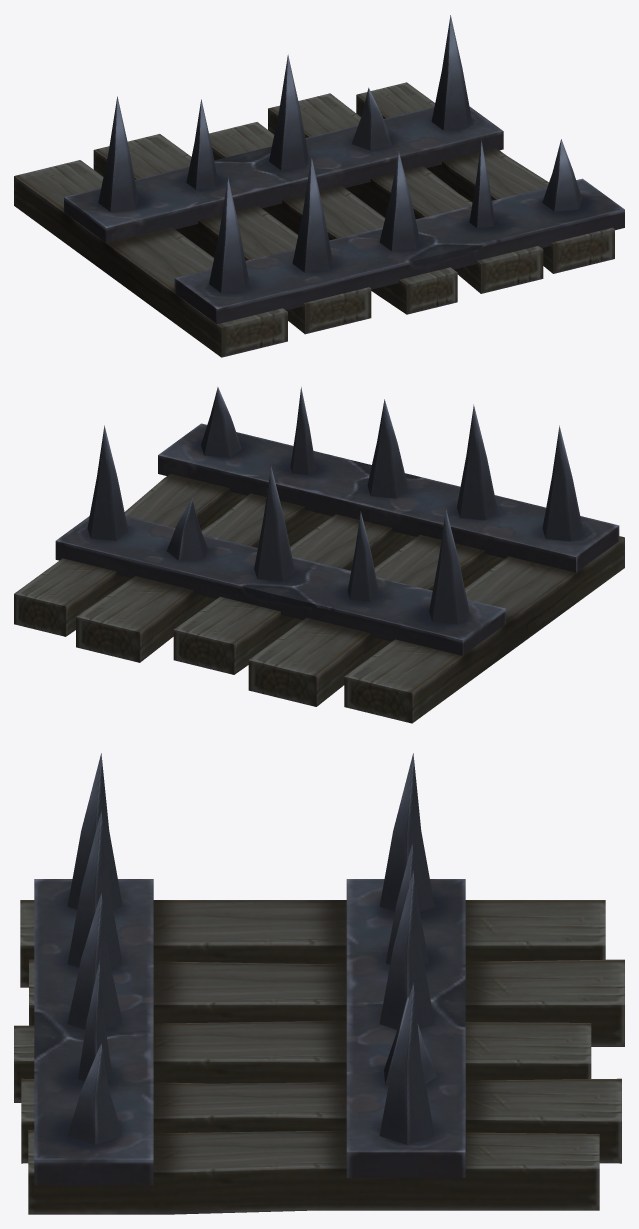
Rendered from Bedaying_mujiazi.FBX.
3 views of the same model, one above another, from view 1: azimuth 30°, elevation 25°; view 2: azimuth 150°, elevation 25°; view 3: azimuth 270°, elevation 25° (orthographic). The views are drawn at different scales.
Parts seen in each view (by area): view 1: Bedaying_mujiazi; view 2: Bedaying_mujiazi; view 3: Bedaying_mujiazi.
Boxes of the visible parts, x1,y1,x2,y2 form: Bedaying_mujiazi: (14,15,624,357); Bedaying_mujiazi: (14,387,624,723); Bedaying_mujiazi: (14,753,624,1214).
Size of the model in its own units: 107 by 98.13 by 37.86.
